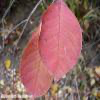Cherry leaf: (40, 1, 83, 80), (21, 27, 52, 99)
